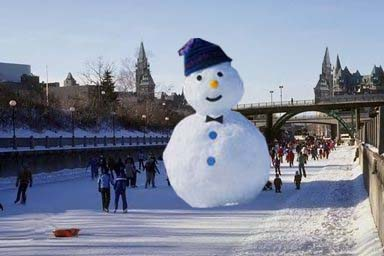copymove: (315, 49, 335, 104)
removal: (21, 188, 51, 234)
spliced: (160, 35, 273, 207)
